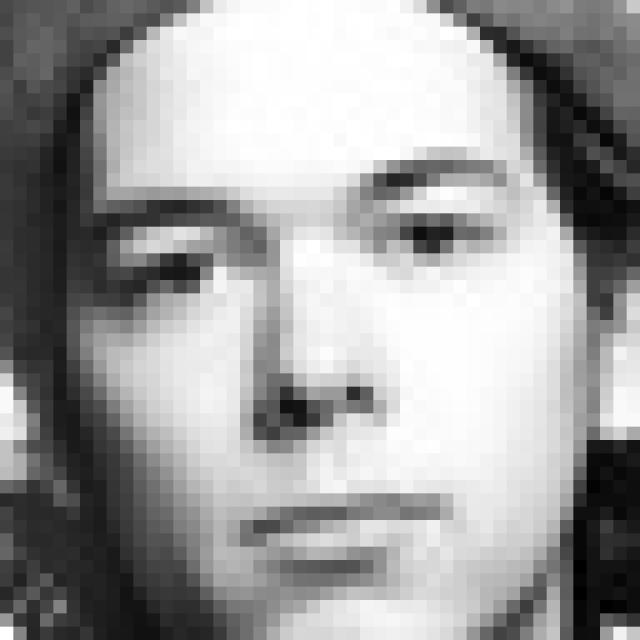neutral: (76, 138, 531, 577)
